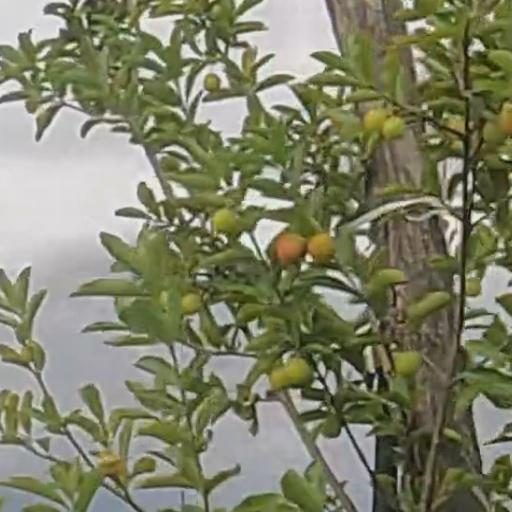acerola: (284, 359, 315, 388), (275, 234, 306, 263), (311, 236, 336, 262), (386, 118, 404, 141), (366, 107, 382, 130)
